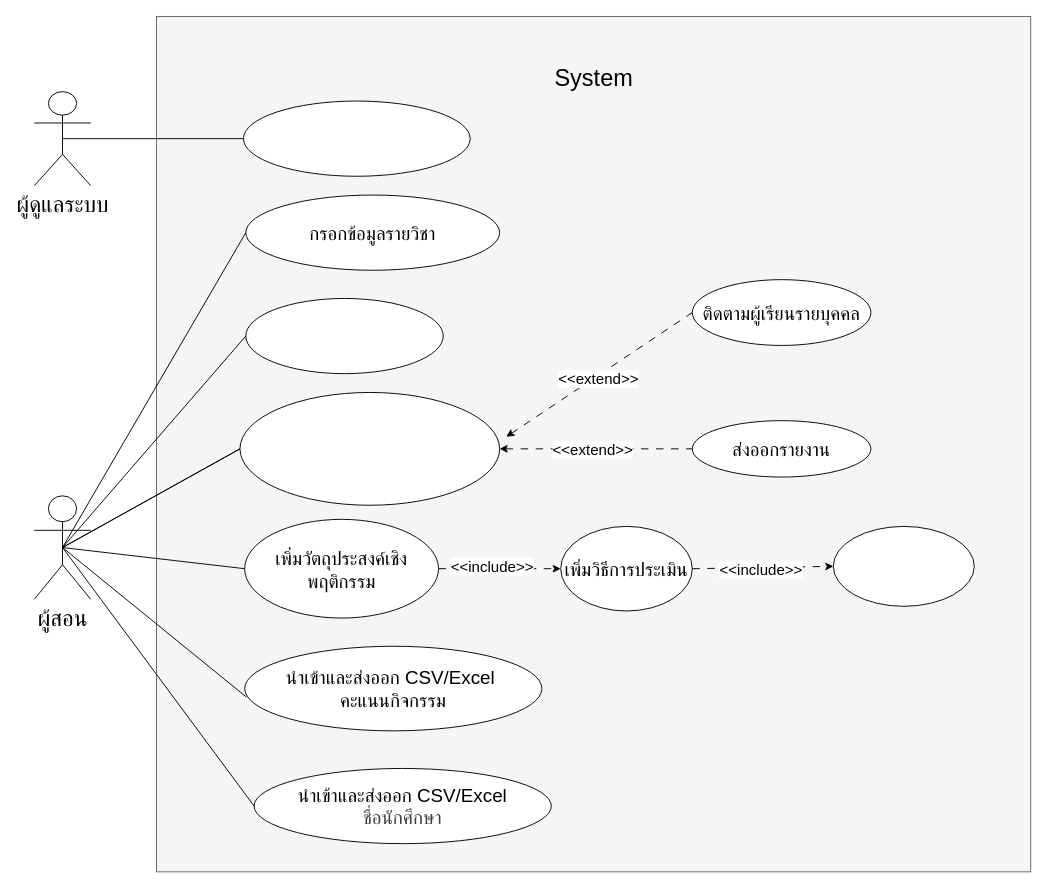
Some shapes in this 1047 by 888 pixel diagram are drawn without their labels. Each missing label, with the centre of its shape:
กำหนด CLOs ของรายวิชา: (x=344, y=336)
จัดการผู้ใช้งาน: (x=356, y=138)
วิเคราะห์และสรุปข้อมูล CLOs ของรายวิชา: (x=369, y=448)
เพิ่มเกณฑ์การประเมิน: (x=903, y=565)
